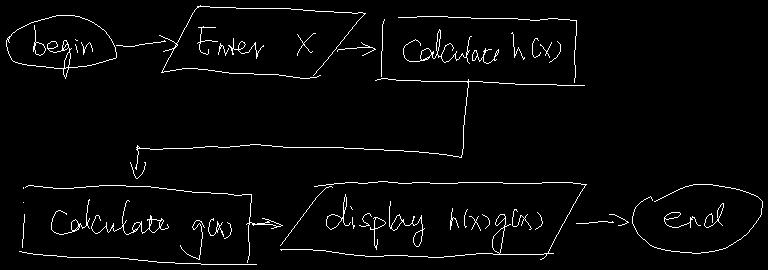arrow: (130, 79, 468, 178), (116, 35, 177, 51), (576, 214, 628, 225), (337, 42, 375, 55), (246, 218, 282, 228)
data: (280, 181, 586, 259), (161, 5, 365, 78)
process: (19, 185, 256, 264), (375, 16, 584, 85)
terminator: (632, 184, 762, 253), (6, 15, 116, 68)
text: (326, 194, 542, 253), (51, 199, 231, 259), (403, 29, 560, 63), (197, 26, 315, 58), (33, 25, 92, 78), (664, 203, 723, 227)
